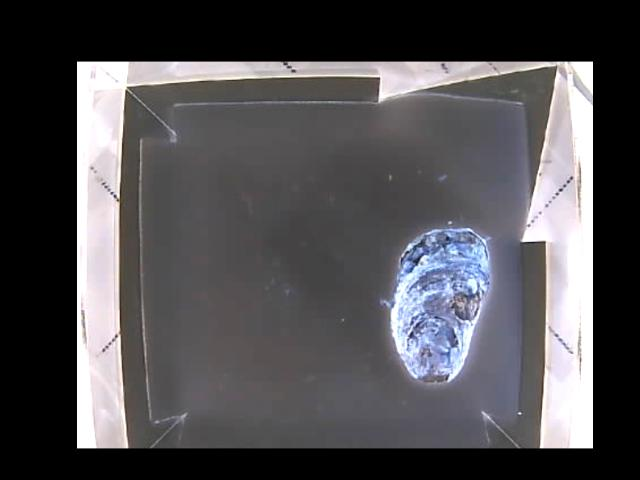Shell: (391, 229, 492, 381)
